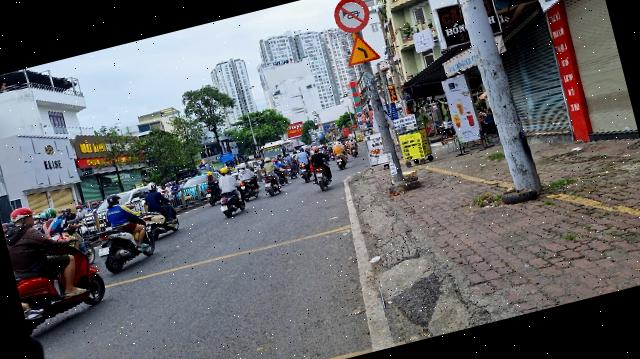cam-bop-coi: (329, 0, 374, 37)
cho-ngoat-nguy-hiem-ben-trai: (340, 28, 380, 66)
